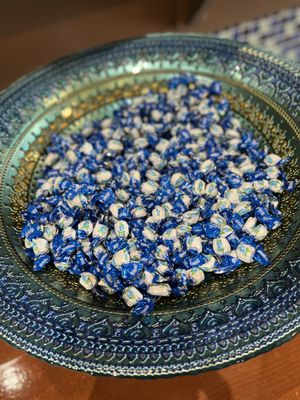sushi: (0, 27, 299, 383)
